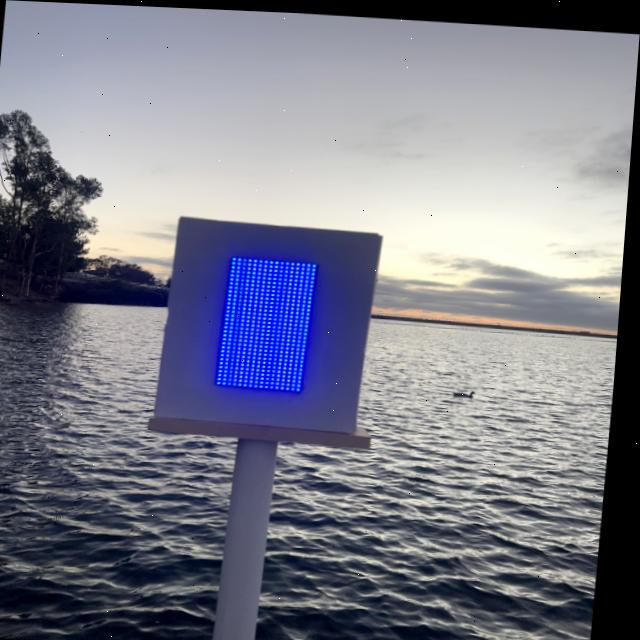led: (187, 227, 347, 421)
